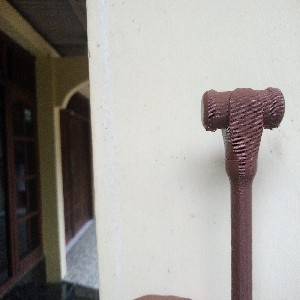palu: (198, 88, 286, 300)
